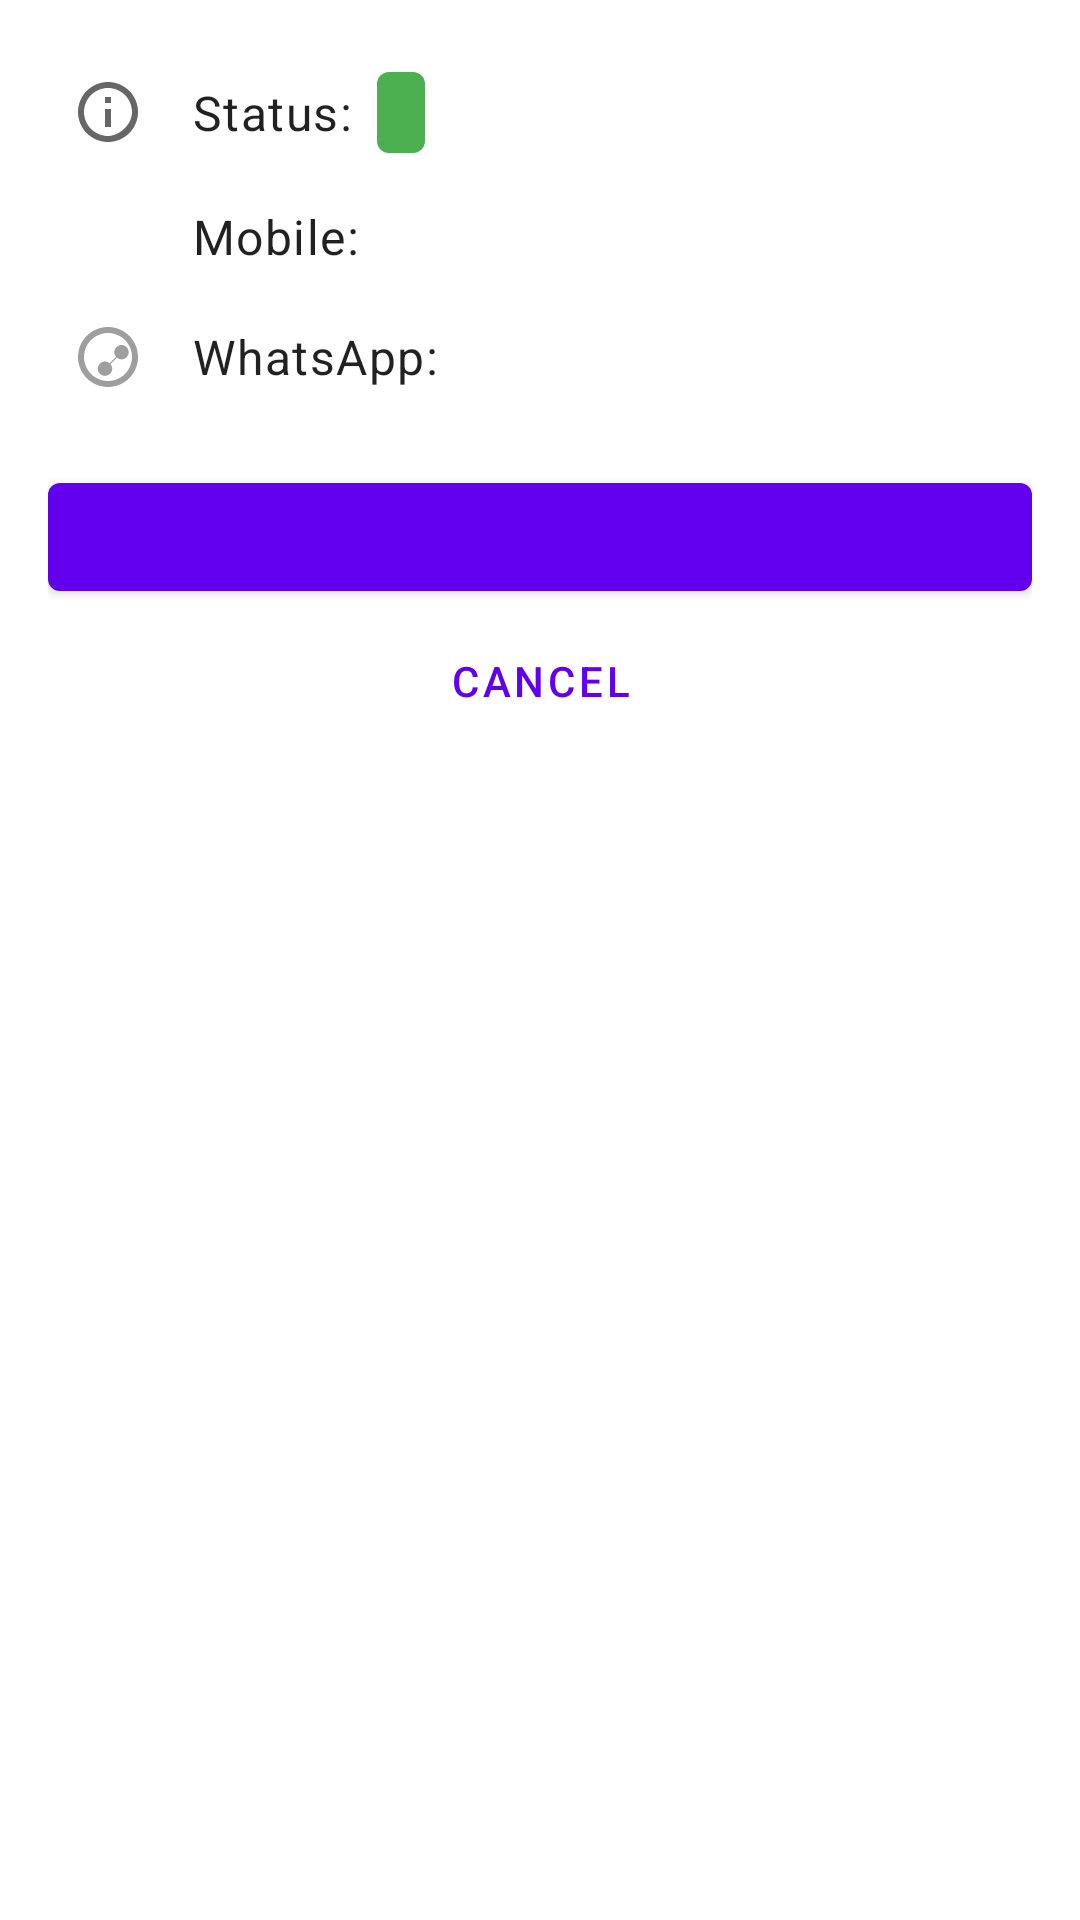

Where to tap for icons on this 1080x1920 app screen, as (x=x, y=y):
info: (x=108, y=112)
